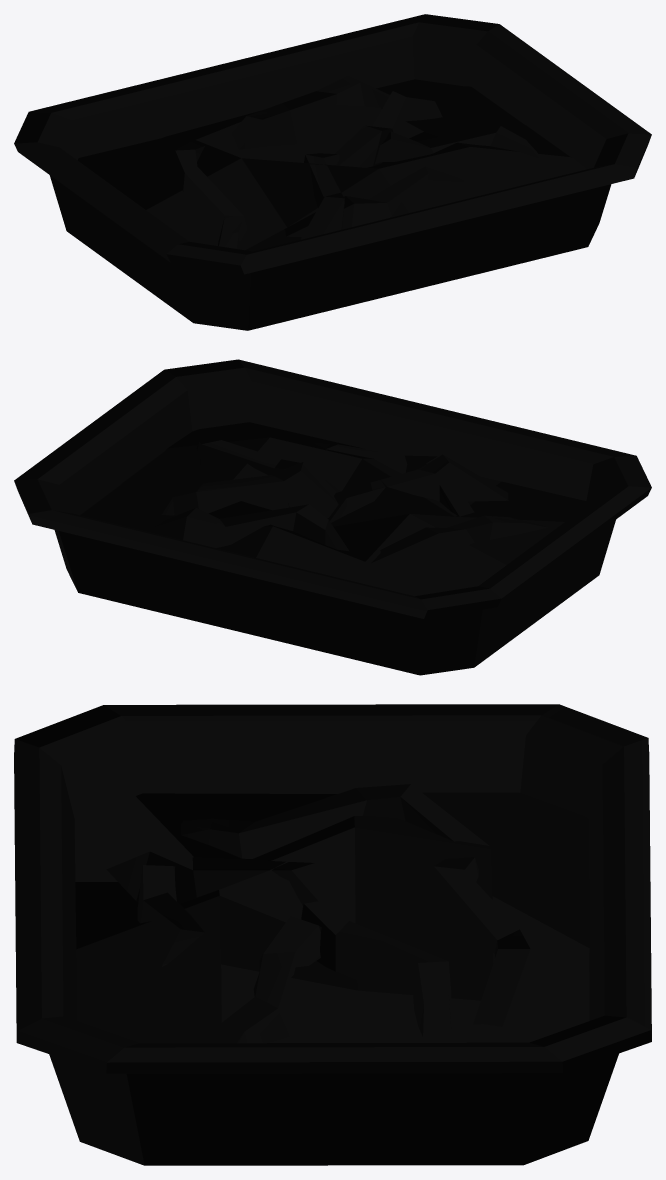
Rendered from cyber_SM_Prop_Food_Tray_03.gltf.
The picture shows the model from 3 angles, top to bottom: view 1: azimuth 30°, elevation 25°; view 2: azimuth 150°, elevation 25°; view 3: azimuth 270°, elevation 25°; orthographic projection. The views are drawn at different scales.
Visible parts, largest first — view 1: SM_Prop_Food_Tray_03; view 2: SM_Prop_Food_Tray_03; view 3: SM_Prop_Food_Tray_03.
Boxes of the visible parts, x1=… form: SM_Prop_Food_Tray_03: x1=14, y1=14, x2=651, y2=330; SM_Prop_Food_Tray_03: x1=14, y1=359, x2=651, y2=675; SM_Prop_Food_Tray_03: x1=14, y1=704, x2=651, y2=1165.
Size of the model in its own units: 0.5872 by 0.109 by 0.4419.
Materials: 1 (1 with a texture image).
